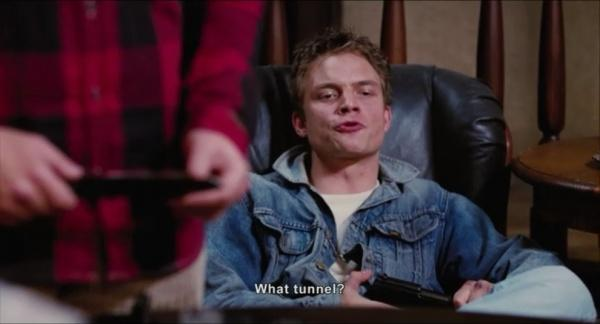Gun: (361, 271, 455, 319)
